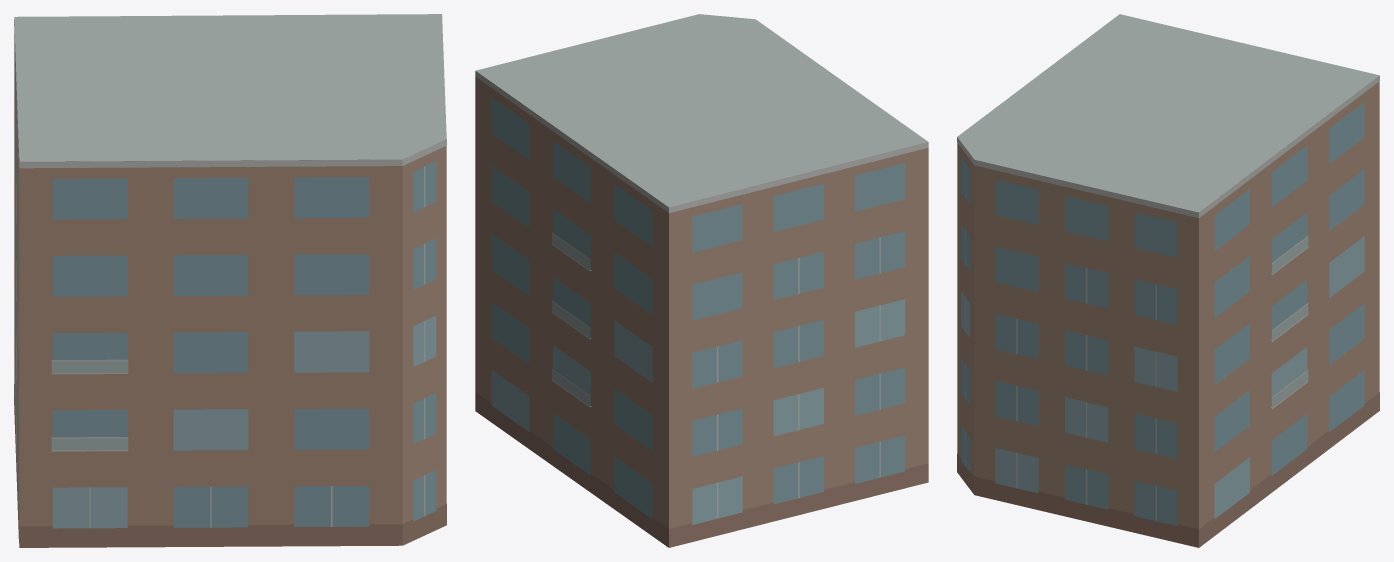
Rendered from survey-upis-32942606.glb.
The picture shows the model from 3 angles, left to right: view 1: azimuth 30°, elevation 25°; view 2: azimuth 150°, elevation 25°; view 3: azimuth 270°, elevation 25°; orthographic projection. The views are drawn at different scales.
Visible parts, largest first — view 1: survey-upis-32942606.tmp; view 2: survey-upis-32942606.tmp; view 3: survey-upis-32942606.tmp.
Part boxes in pixels (x1,y1,x2,y2): survey-upis-32942606.tmp: (14, 14, 446, 547); survey-upis-32942606.tmp: (475, 14, 928, 547); survey-upis-32942606.tmp: (957, 14, 1379, 547).
Size of the model in its own units: 18.35 by 14.45 by 16.52.
